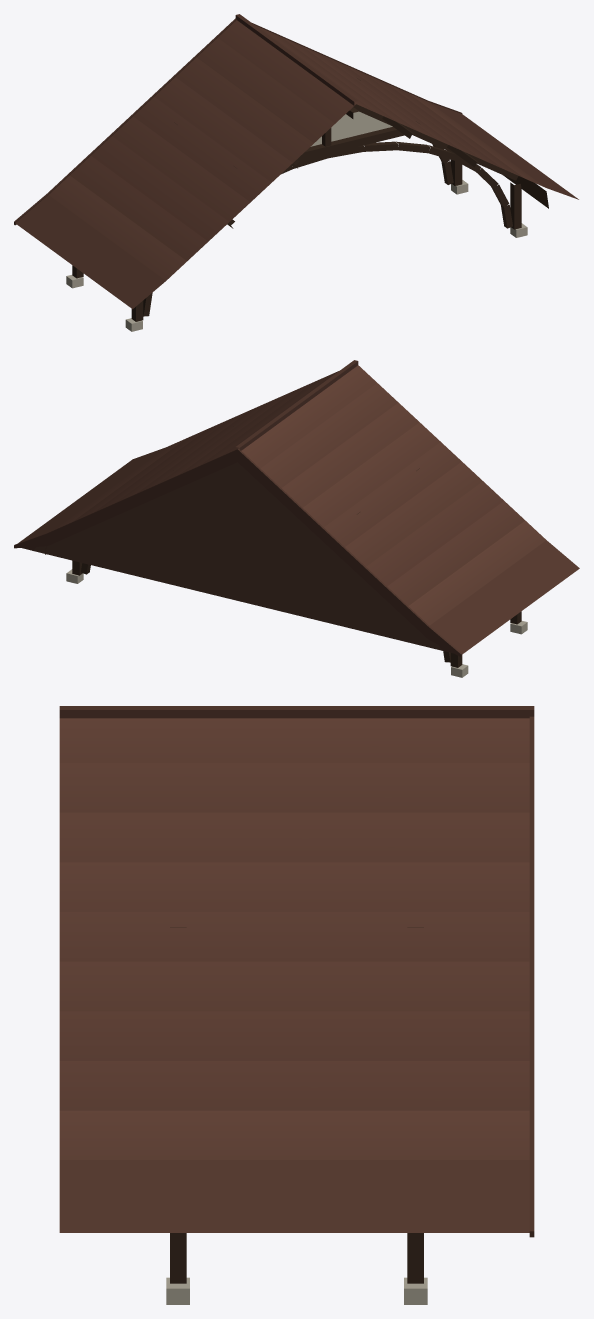
File: roof.ridge_bay.end.glb
The picture shows the model from 3 angles, top to bottom: view 1: azimuth 30°, elevation 25°; view 2: azimuth 150°, elevation 25°; view 3: azimuth 270°, elevation 25°; orthographic projection. The views are drawn at different scales.
Visible parts, largest first — view 1: roof_ridge_bay_end; view 2: roof_ridge_bay_end; view 3: roof_ridge_bay_end.
Boxes of the visible parts, <box> form: roof_ridge_bay_end: <box>14,14,578,331</box>; roof_ridge_bay_end: <box>14,360,579,677</box>; roof_ridge_bay_end: <box>59,706,534,1304</box>.
Size of what is drawn, in the model's own units: 17.4 by 7.5 by 8.
